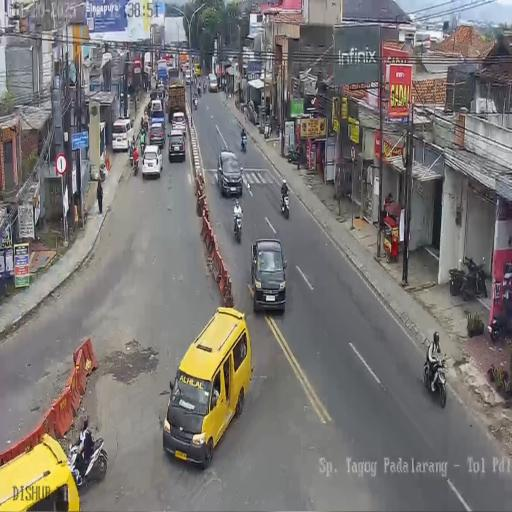3: (157, 58, 170, 84), (167, 67, 179, 88), (144, 51, 153, 77), (180, 53, 188, 70)
car: (162, 307, 251, 466), (250, 238, 287, 312), (217, 148, 243, 198), (141, 144, 163, 180), (112, 117, 133, 153), (168, 131, 186, 163), (148, 119, 166, 149), (171, 111, 186, 136), (150, 98, 163, 115), (207, 74, 218, 92), (184, 71, 192, 86), (194, 62, 200, 75)
truck: (68, 429, 107, 491), (450, 256, 488, 301), (491, 269, 512, 338), (424, 348, 447, 408), (232, 210, 242, 242), (280, 190, 290, 219), (286, 146, 301, 165), (132, 152, 139, 176), (264, 121, 271, 139), (240, 136, 247, 152), (220, 80, 226, 92), (193, 96, 198, 110), (276, 124, 280, 139), (197, 88, 200, 102), (203, 82, 206, 94)
